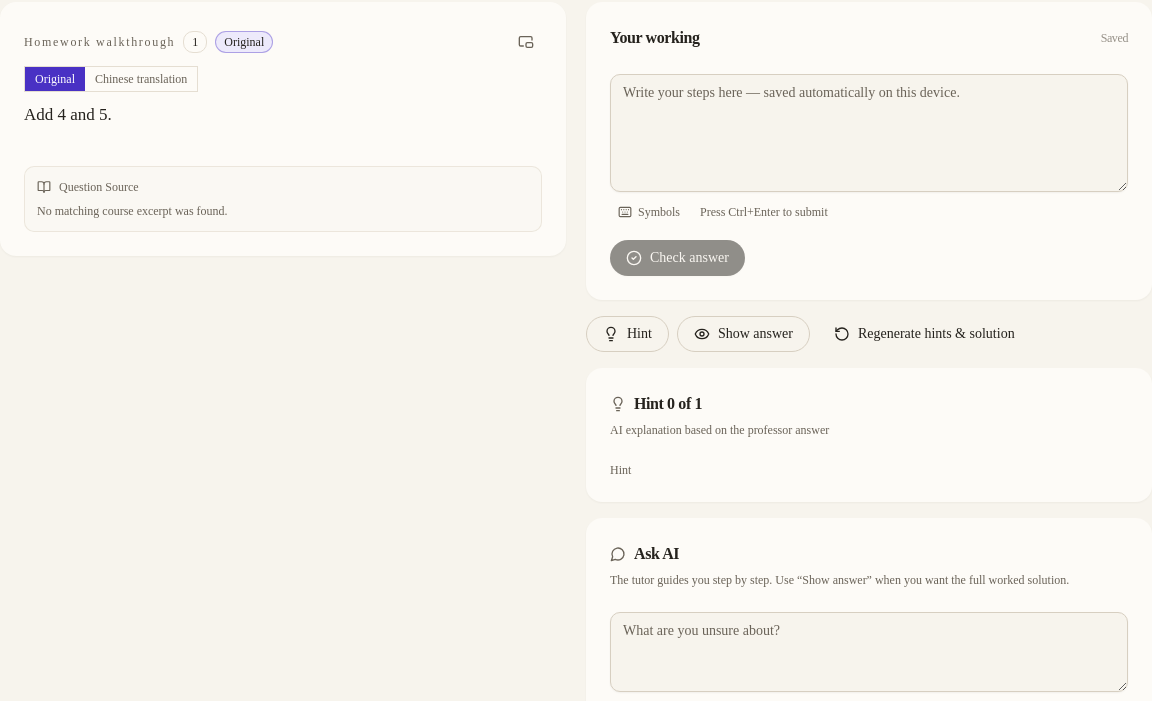
Test: HomeworkQuestionView professor answer › keeps the replaced AI solution available instead of silently overwriting it
What coordinates should you click on to do the following:
click the button "Show answer"
I would click on:
 (743, 334)
Its box is left=677, top=316, right=810, bottom=352.
(page scrolled)
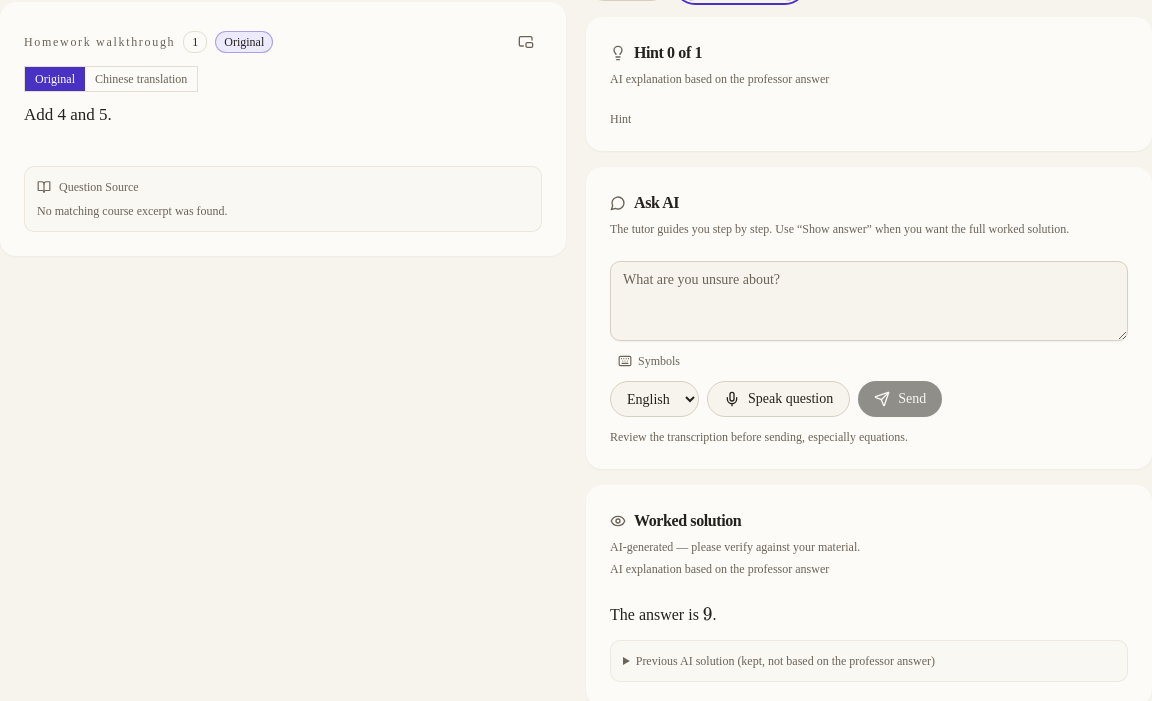
Expected: the heading "Previous AI solution" is shown, left=636, top=654, right=935, bottom=668
